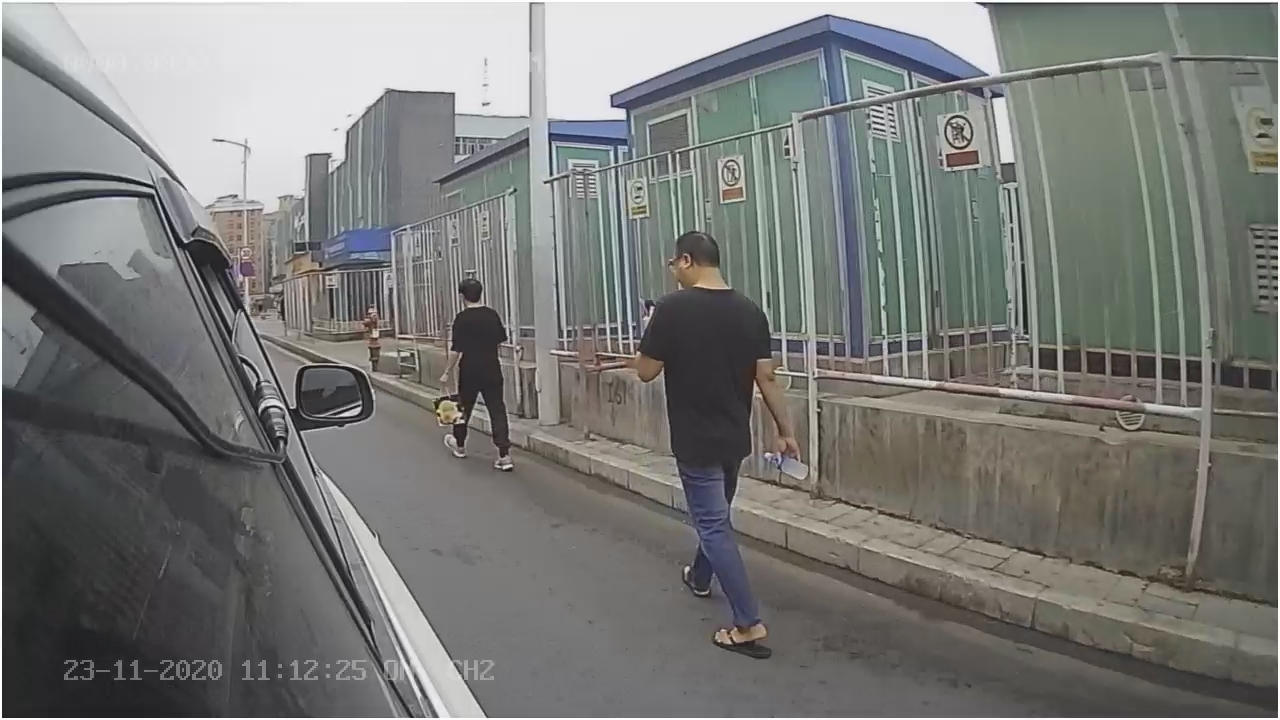person: (637, 238, 812, 666)
